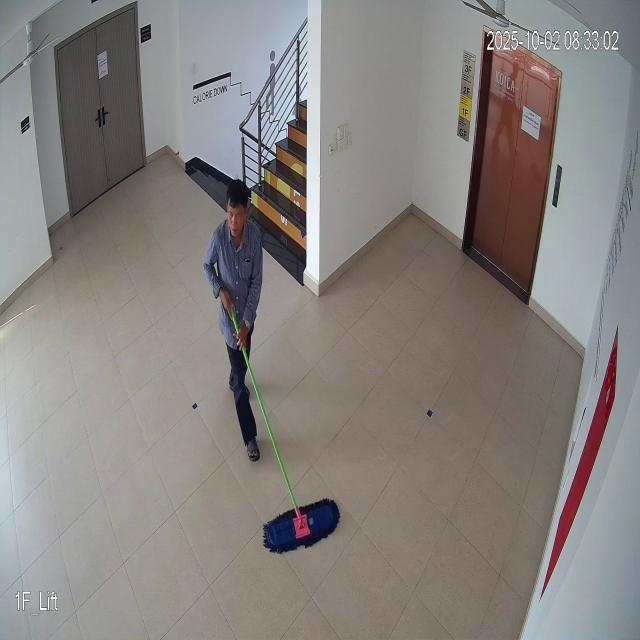face: (224, 178, 253, 244)
